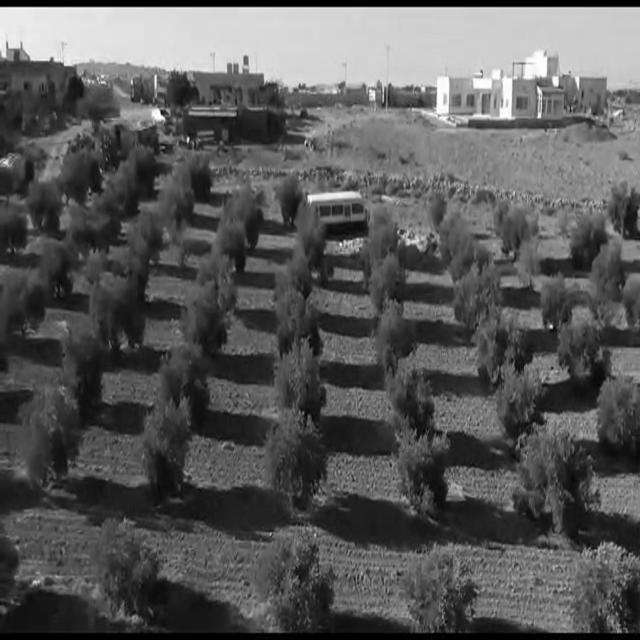trees: (504, 415, 597, 539), (402, 532, 502, 633), (11, 380, 86, 492), (562, 528, 640, 633), (271, 514, 334, 640), (90, 507, 157, 615), (262, 410, 327, 507), (394, 427, 454, 520), (550, 307, 608, 396), (138, 390, 193, 483), (155, 340, 210, 433), (56, 324, 107, 420), (272, 327, 332, 408), (496, 362, 547, 456), (176, 282, 235, 358), (90, 276, 150, 350), (381, 352, 436, 432), (592, 368, 640, 454), (478, 302, 528, 382), (363, 301, 422, 362), (452, 267, 502, 338), (69, 195, 122, 259), (360, 208, 406, 278), (0, 270, 41, 344), (275, 292, 327, 346), (370, 250, 412, 310), (194, 248, 237, 306), (159, 171, 198, 234), (589, 237, 627, 299), (208, 217, 249, 271), (496, 195, 536, 250), (302, 205, 334, 272), (61, 144, 99, 200), (89, 247, 155, 279), (538, 275, 572, 337), (218, 186, 260, 236), (38, 241, 73, 299), (599, 180, 639, 230), (24, 184, 61, 238), (512, 242, 548, 296), (454, 233, 491, 284), (568, 212, 604, 264), (438, 211, 472, 266), (128, 143, 160, 200), (108, 159, 137, 216), (0, 198, 26, 254), (278, 252, 310, 296), (132, 210, 167, 248), (189, 154, 215, 200), (276, 172, 301, 219), (618, 274, 640, 325), (424, 187, 448, 230)
